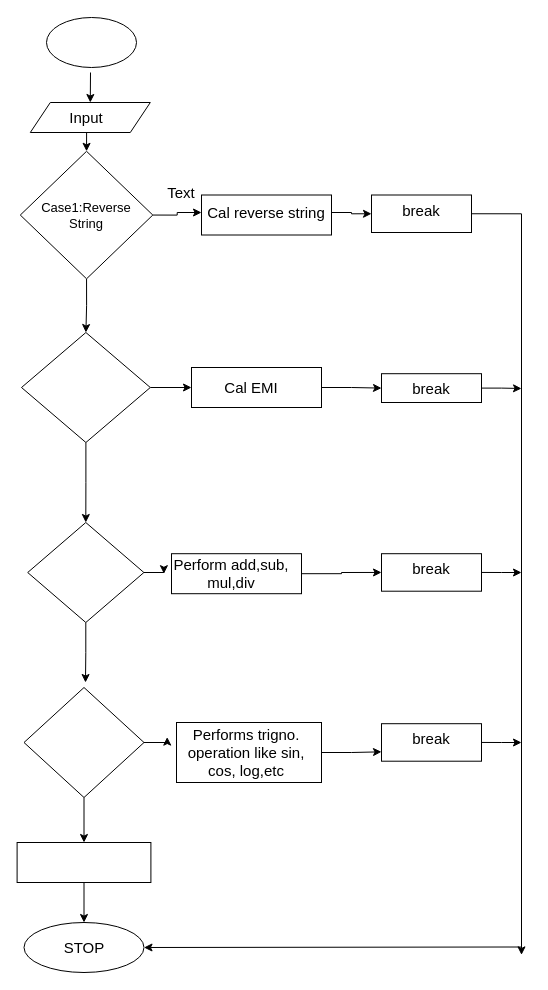
This 548x990 diagram has some shape labels left out. The shapes that lost their labels are listed below. From the top down, each one's centre as x and y in pixels, then its label:
the point at 91,42: Start
the point at 85,387: Case2: EMI
the point at 85,572: Case3: Arithmatical operation
the point at 83,742: Case4: Trignometric operation
the point at 83,862: Default
